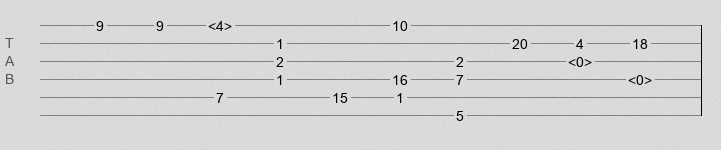1: (276, 72, 284, 82), (276, 36, 284, 46), (396, 90, 404, 100)
10: (392, 18, 408, 28)
15: (332, 90, 348, 100)
16: (392, 72, 408, 82)
18: (632, 36, 648, 46)
2: (276, 54, 284, 64), (456, 54, 464, 64)
20: (512, 36, 528, 46)
4: (576, 36, 584, 46)
5: (456, 108, 464, 118)
7: (216, 90, 224, 100), (456, 72, 464, 82)
9: (96, 18, 104, 28), (156, 18, 164, 28)
harmonic: (208, 18, 232, 28), (568, 54, 592, 64), (628, 72, 652, 82)
